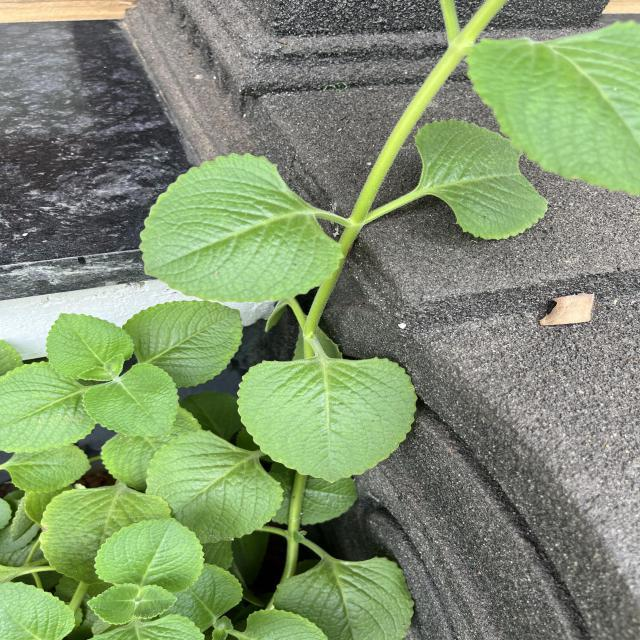Plectranthus barbatus: (137, 152, 342, 304), (236, 355, 417, 482), (412, 118, 549, 242), (145, 428, 284, 546), (38, 484, 170, 580), (273, 556, 415, 640), (123, 299, 245, 389), (0, 360, 97, 454), (94, 516, 206, 593), (82, 364, 180, 438), (46, 312, 136, 380), (0, 443, 92, 493), (85, 583, 140, 625)
